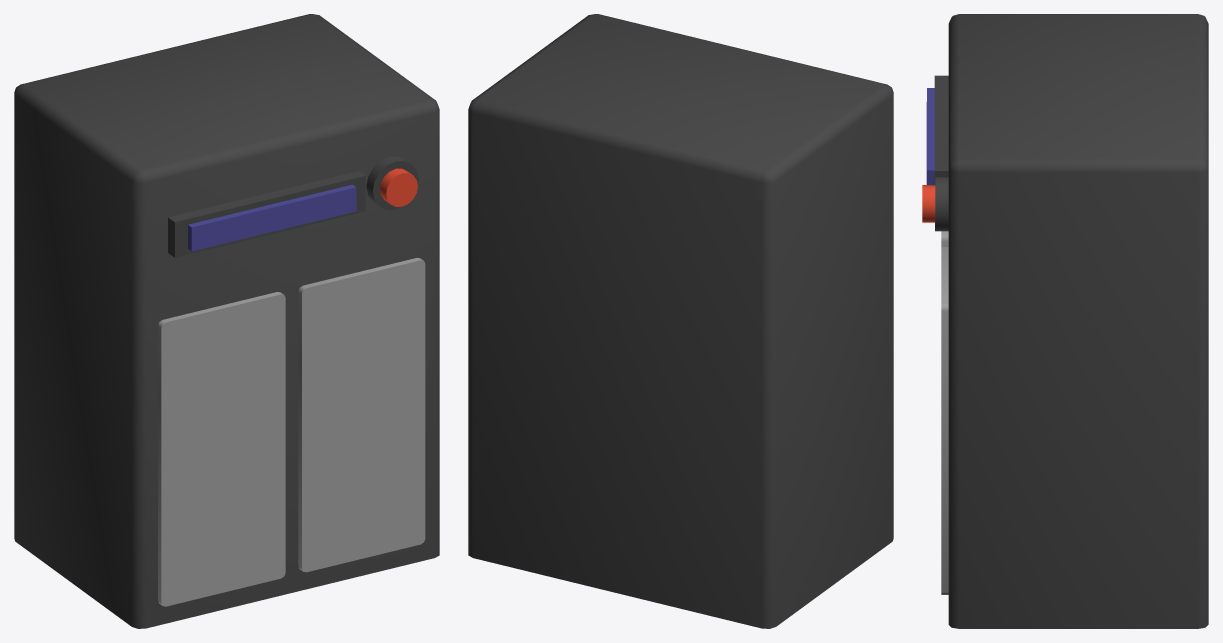
The model's file is generator2.fbx.
The picture shows the model from 3 angles, left to right: view 1: azimuth 30°, elevation 25°; view 2: azimuth 150°, elevation 25°; view 3: azimuth 270°, elevation 25°; orthographic projection. The views are drawn at different scales.
Visible parts, largest first — view 1: generator2; view 2: generator2; view 3: generator2.
Boxes of the visible parts, x1,y1,x2,y2 form: generator2: (14,14,439,628); generator2: (468,14,893,628); generator2: (922,14,1208,628).
Size of the model in its own units: 200 by 283 by 158.
